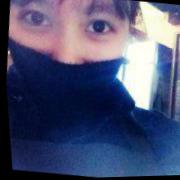WRONG: (1, 1, 137, 126)
